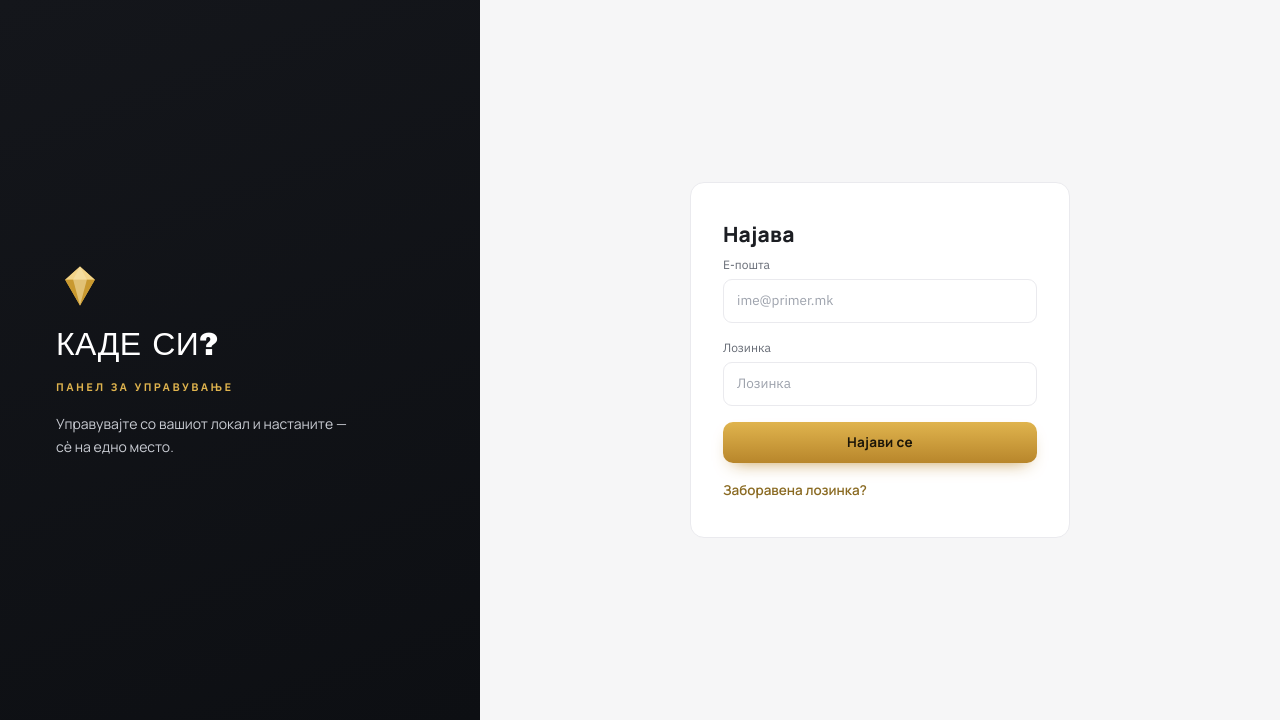
Test: LoginPage › shows the sign-in error and stays on the form when the password is wrong
The width and height of the screenshot is (1280, 720).
Type "staff@example.com" into the field labelled "Е-пошта".
click(880, 301); type("staff@example.com")  # box left=723, top=279, right=1037, bottom=323
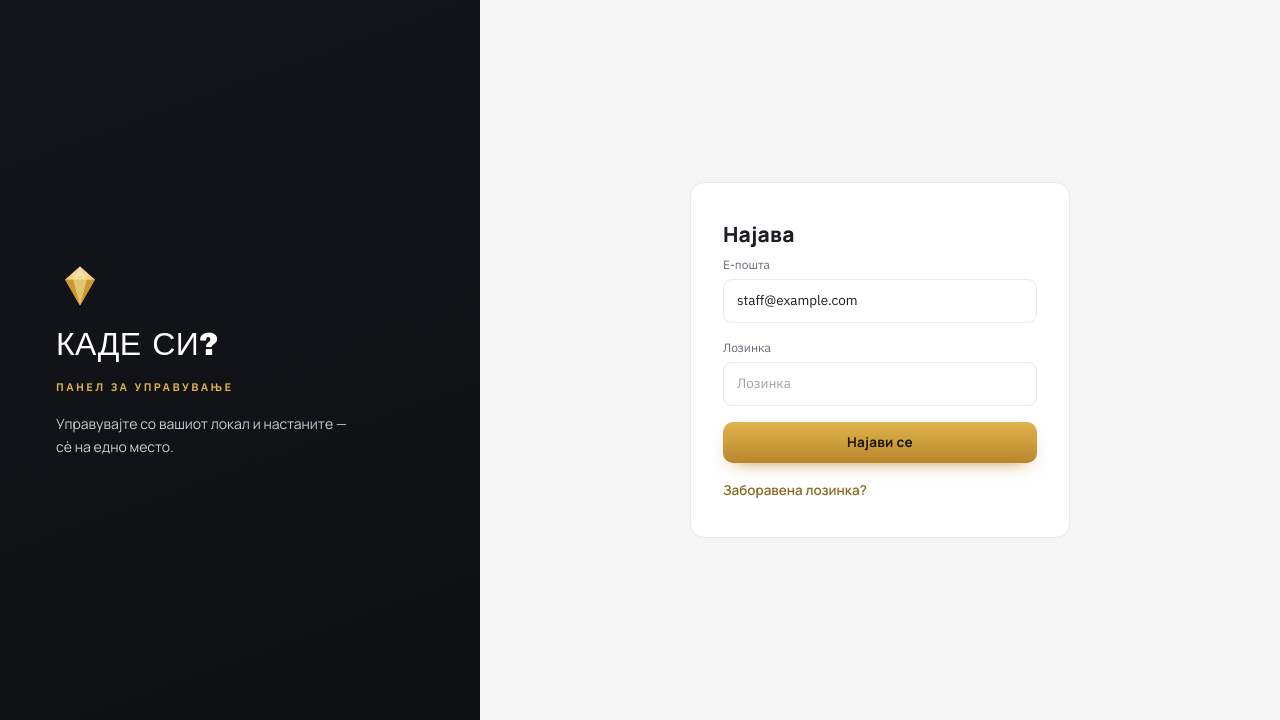
Type "secret-password" into the password field labelled "Лозинка".
click(880, 384); type("secret-password")  # box left=723, top=362, right=1037, bottom=406
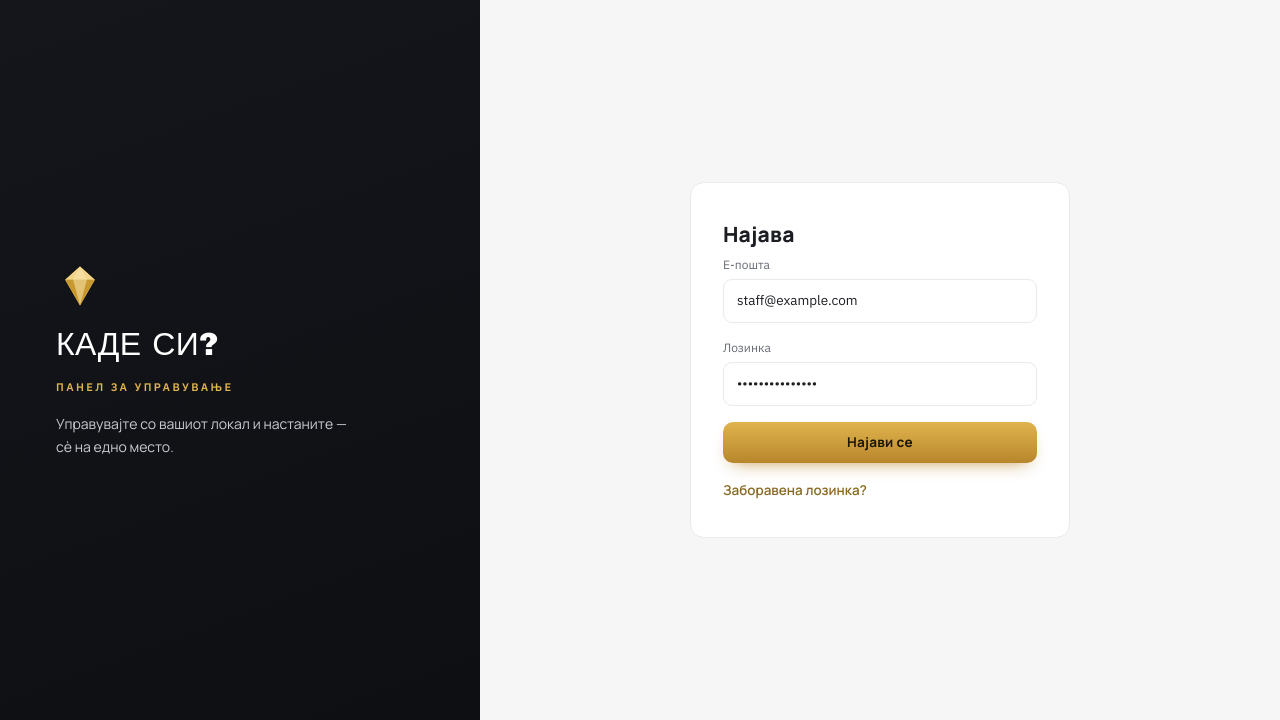
Click the button "Најави се".
click(880, 442)  # box left=723, top=422, right=1037, bottom=463
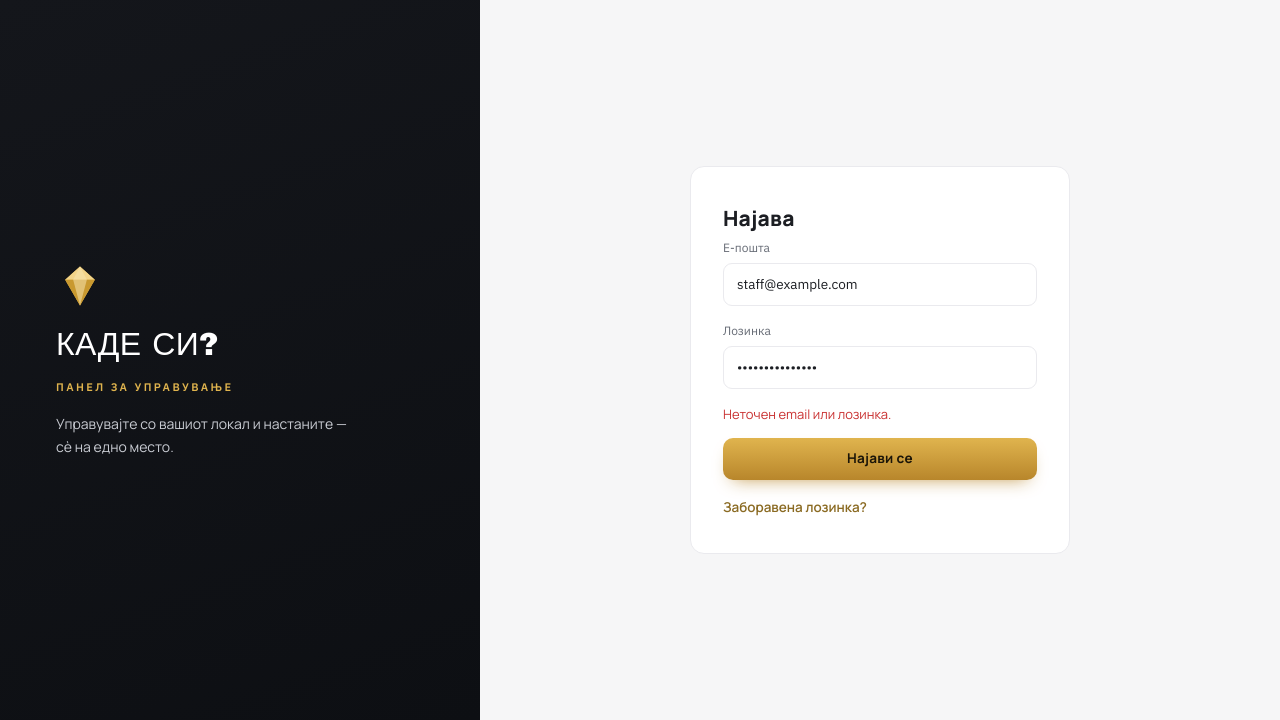
Expected: the text "Неточен email или лозинка." is shown, left=723, top=405, right=891, bottom=423
